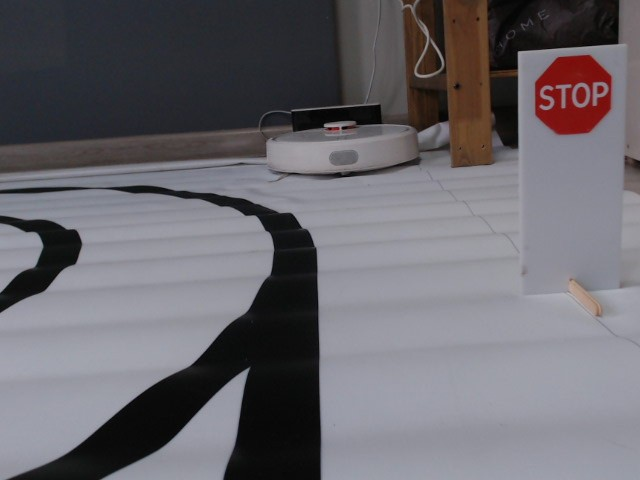Stop: (531, 53, 613, 136)
